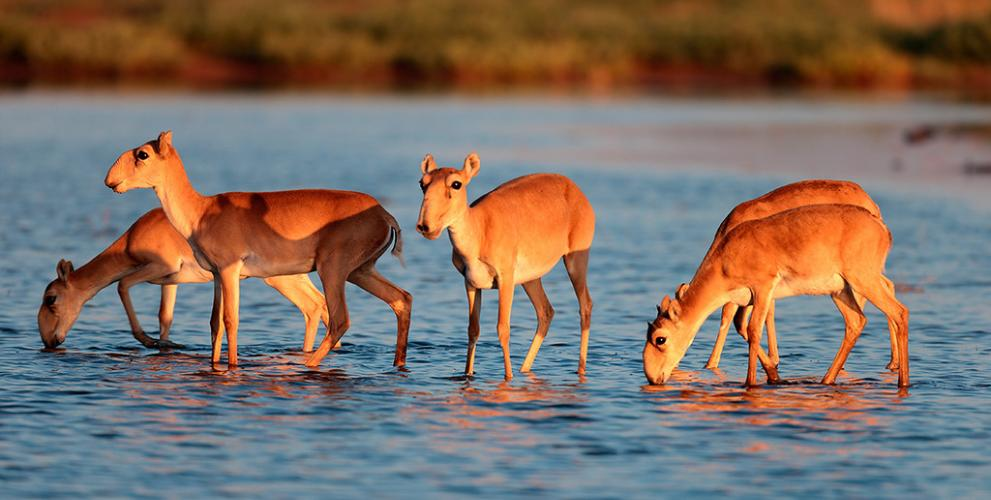saiga: (102, 129, 420, 371), (33, 195, 347, 367), (639, 201, 910, 393), (417, 154, 595, 381)
